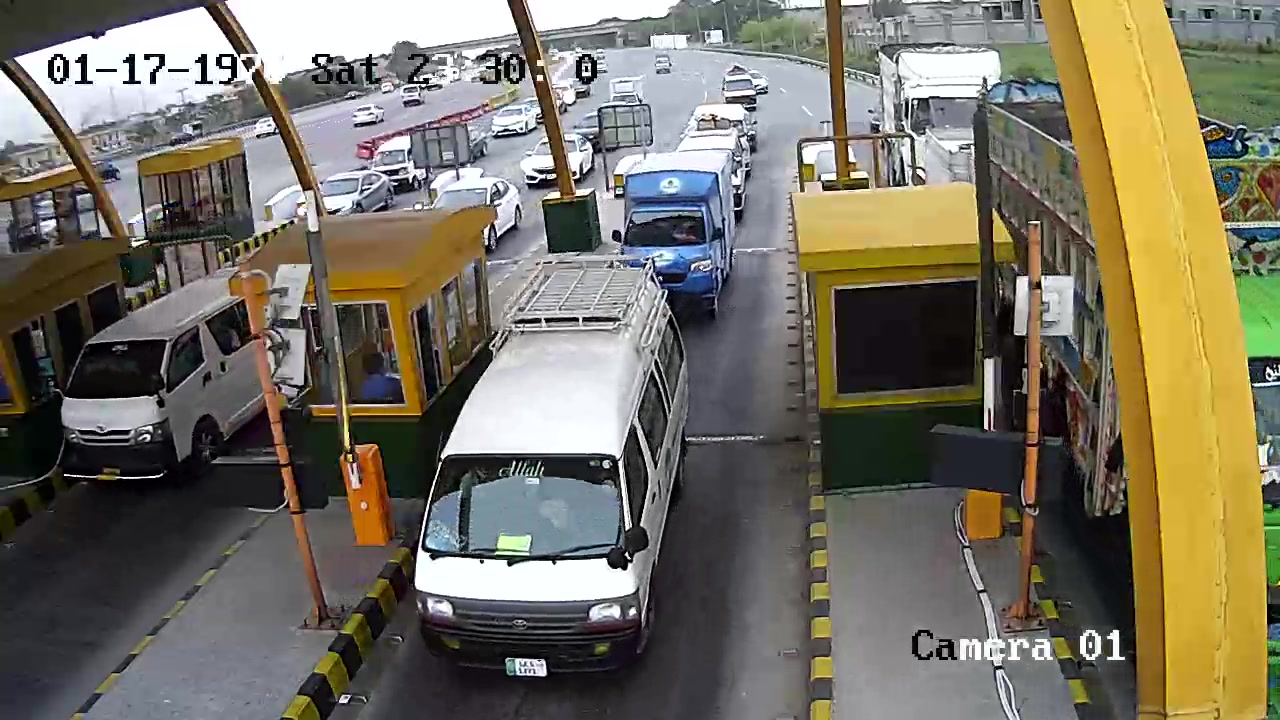F2: (403, 255, 690, 675)
